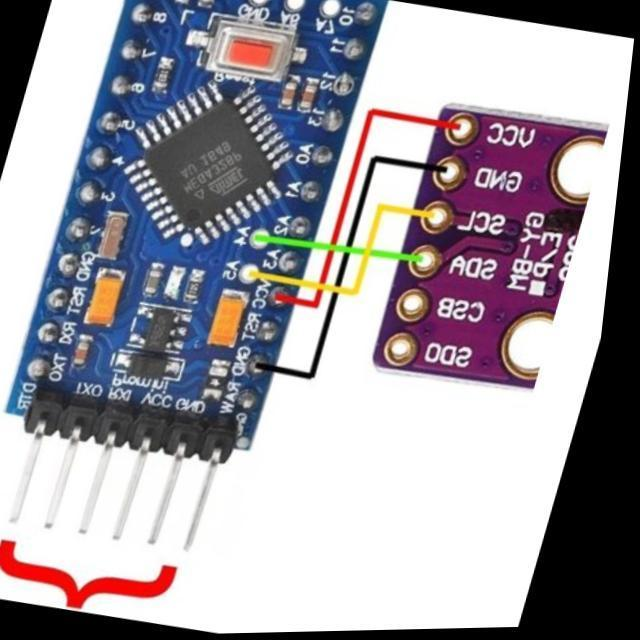Arduino-ProMini: (8, 1, 387, 463)
